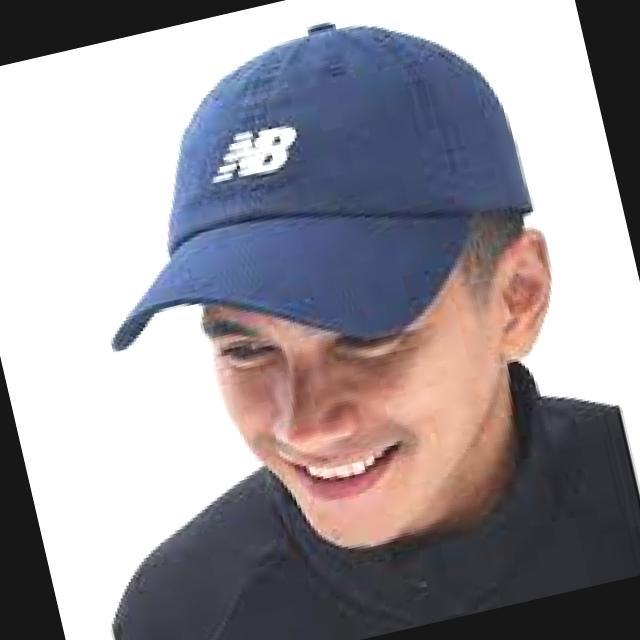cap: (30, 0, 584, 416)
